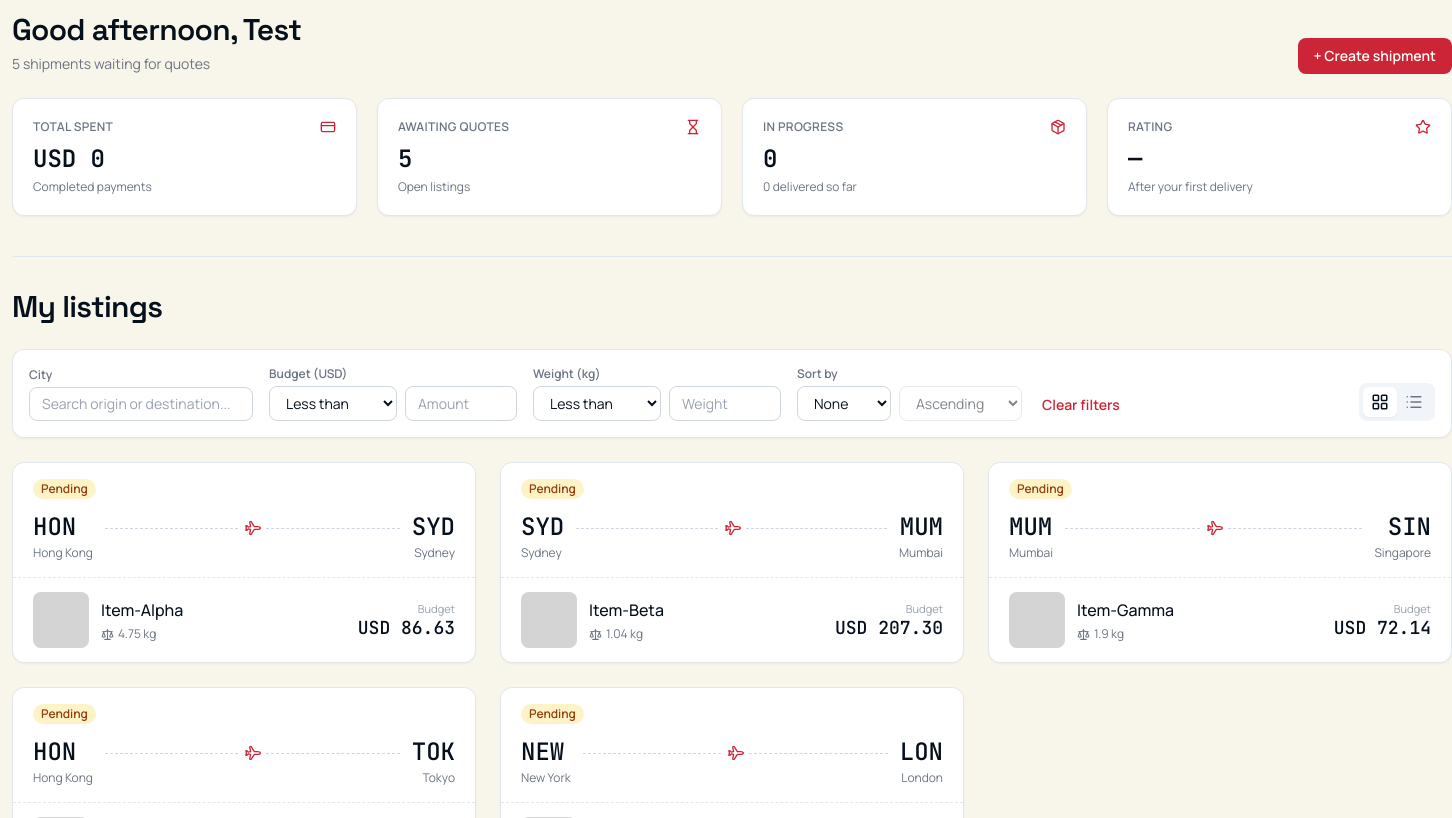
Test: city filter also matches destination, not just origin
The image size is (1452, 818).
Expected: the text "Item-Alpha" is shown, x1=101 y1=599 x2=183 y2=621
Type "tokyo" into the field named "City filter" at (141, 404), box x1=29 y1=387 x2=253 y2=421
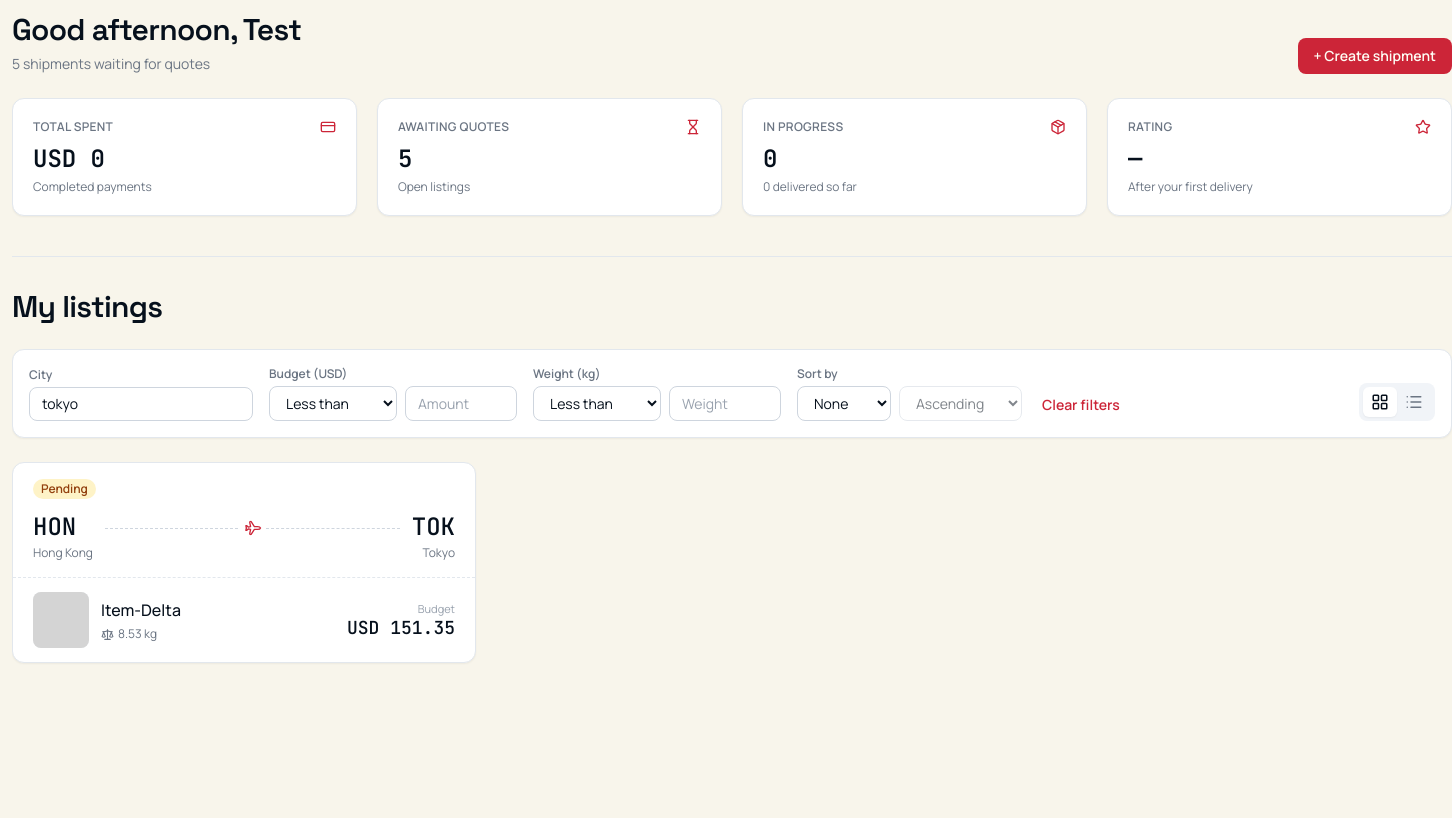
Expected: the text "Item-Delta" is shown, x1=101 y1=599 x2=181 y2=621
Now the link "Item-Alpha" is gone
Now the link "Item-Beta" is gone
